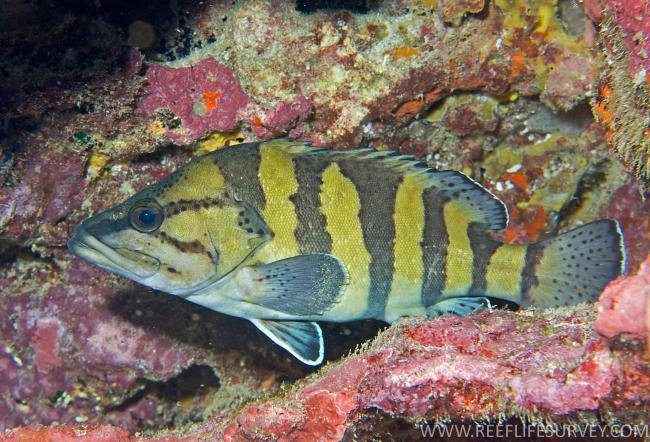fish: (68, 137, 628, 366)
